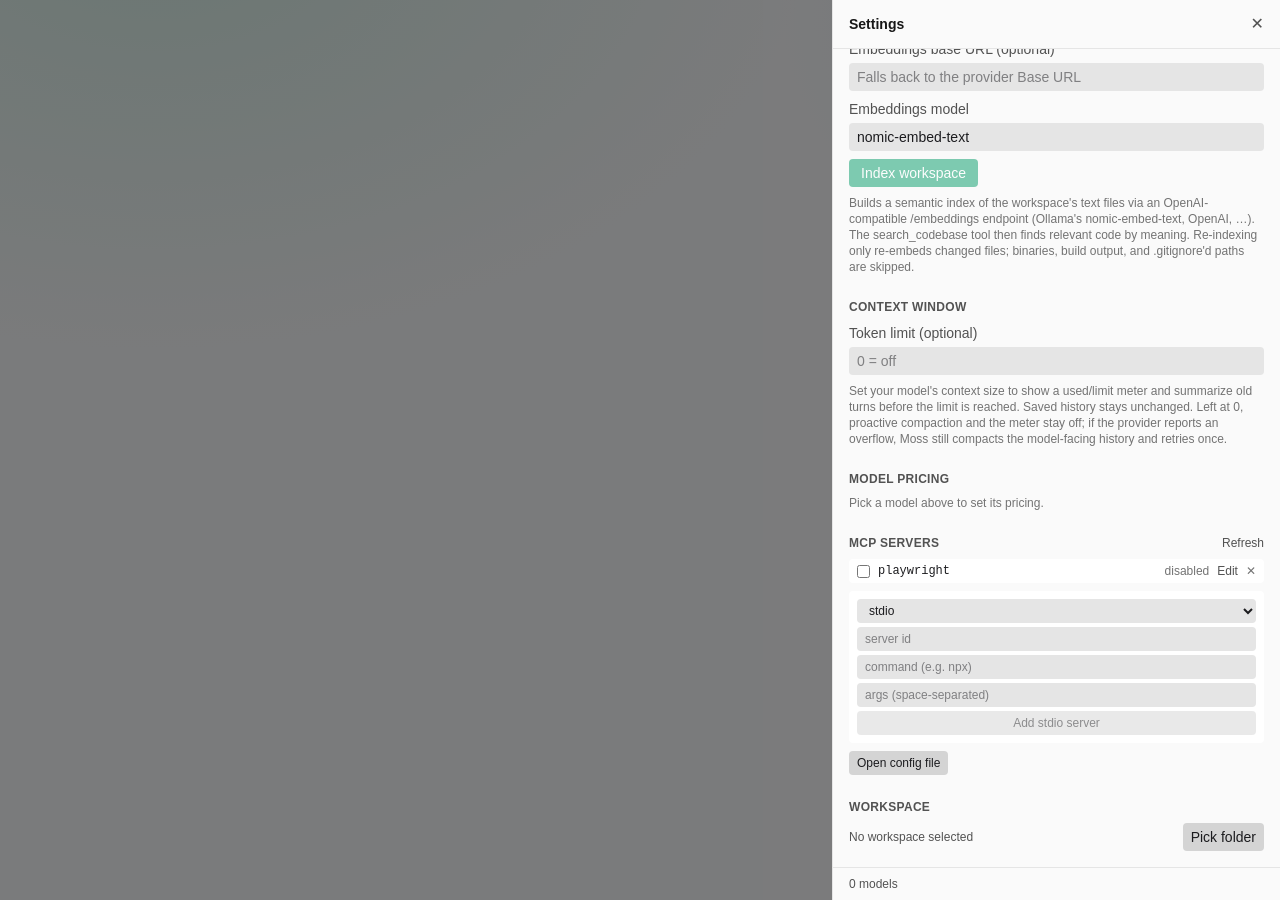
Scenario: SettingsPanel › removes a server via its remove button
The image size is (1280, 900).
(page scrolled)
Expected: the text "disabled" is shown, x1=1164 y1=563 x2=1209 y2=579
What coordinates should you click on to do the following:
click the button named "Remove playwright"
I would click on:
 (1251, 571)
Its box is x1=1246 y1=563 x2=1256 y2=579.
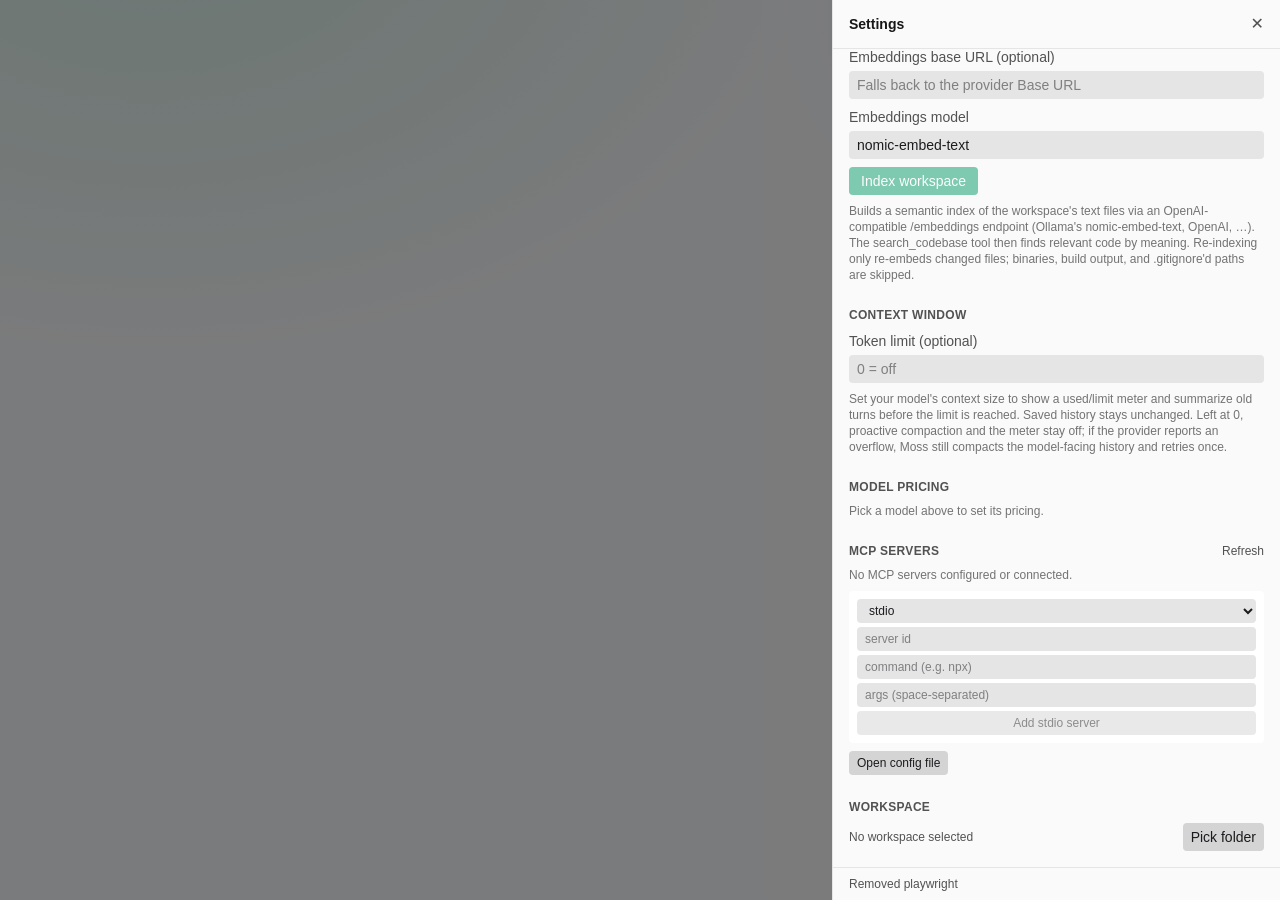
Expected: the text "No MCP servers configured or connected." is shown, x1=849 y1=568 x2=1072 y2=582
